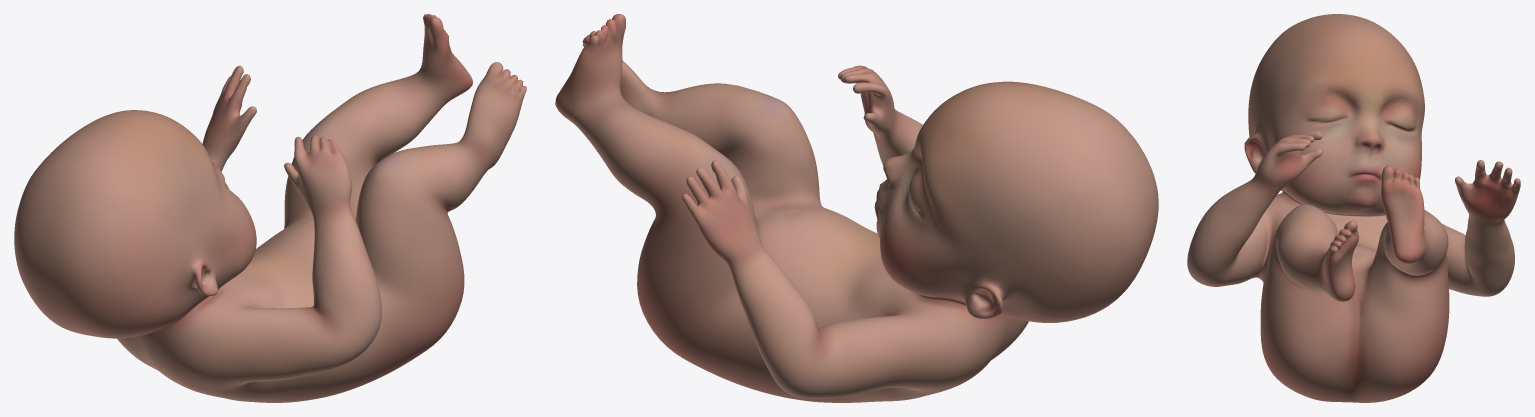
File: Intensive_Baby.fbx
3 renders of one model, left to right at view 1: azimuth 30°, elevation 25°; view 2: azimuth 150°, elevation 25°; view 3: azimuth 270°, elevation 25°, orthographic. The views are drawn at different scales.
Visible parts, largest first — view 1: full_grown_baby; view 2: full_grown_baby; view 3: full_grown_baby.
Part boxes in pixels (<box>): full_grown_baby: <box>14,14,526,402</box>; full_grown_baby: <box>555,14,1158,402</box>; full_grown_baby: <box>1187,14,1520,402</box>.
Bounding box in the file's own units: 96.08 × 57.86 × 61.1.
